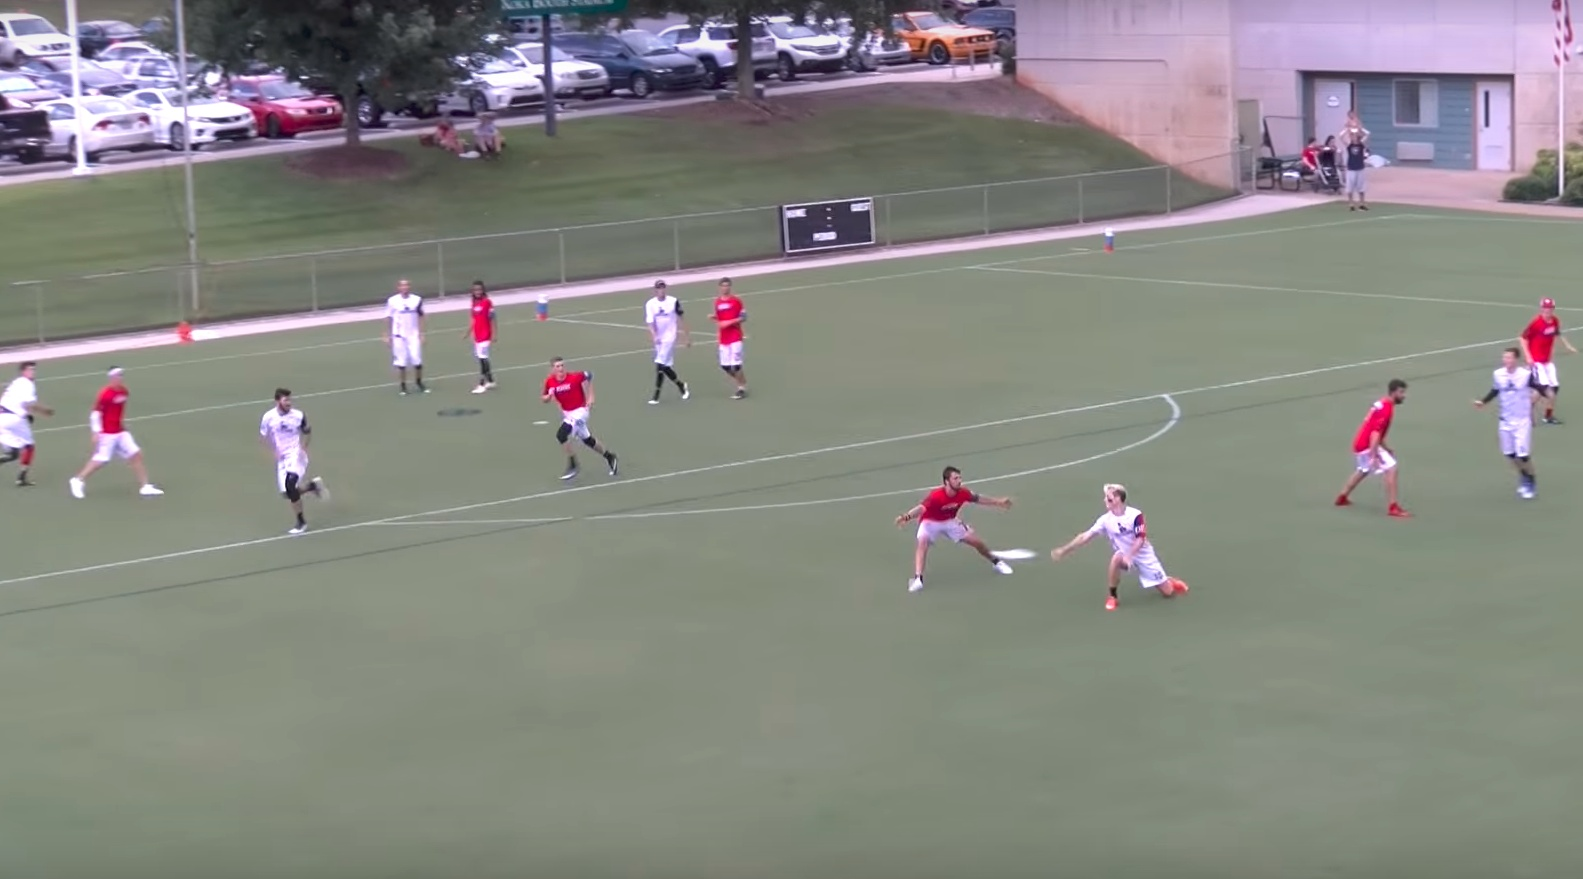frisbee: (989, 548, 1037, 560)
